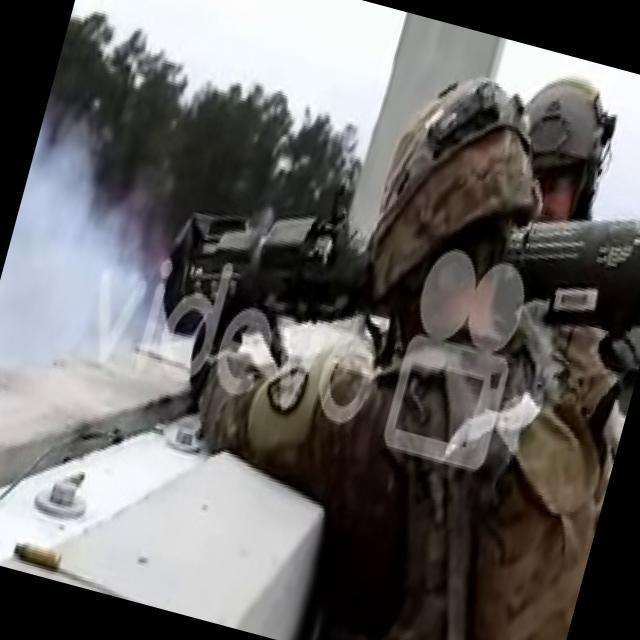rocket: (156, 99, 640, 423)
